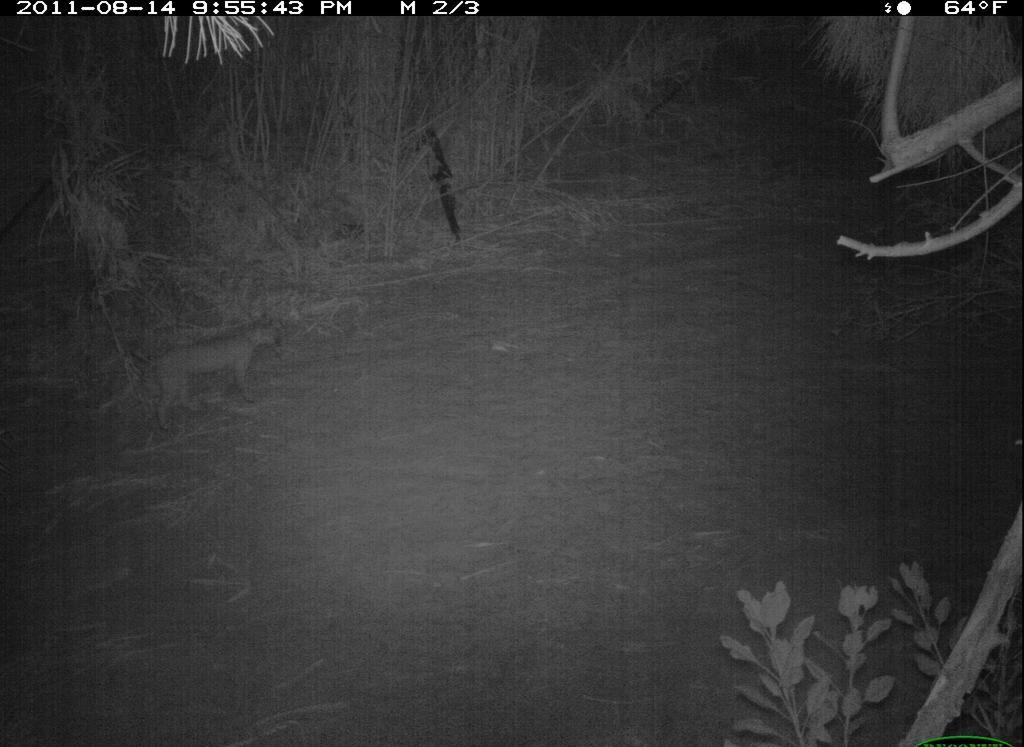bobcat: (114, 305, 297, 434)
